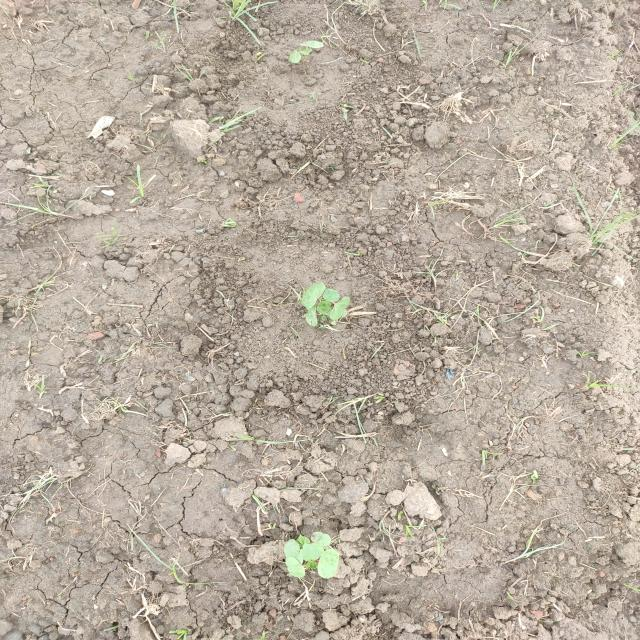seedling_s4: (317, 549, 339, 579), (301, 282, 325, 308), (329, 297, 350, 320), (284, 539, 303, 564), (285, 557, 305, 578), (300, 543, 320, 561), (303, 305, 318, 327), (310, 532, 331, 546), (316, 301, 332, 315), (323, 289, 340, 302), (309, 543, 324, 557), (295, 534, 309, 548), (300, 41, 324, 48), (289, 50, 301, 63), (305, 561, 318, 568), (300, 49, 312, 55)
